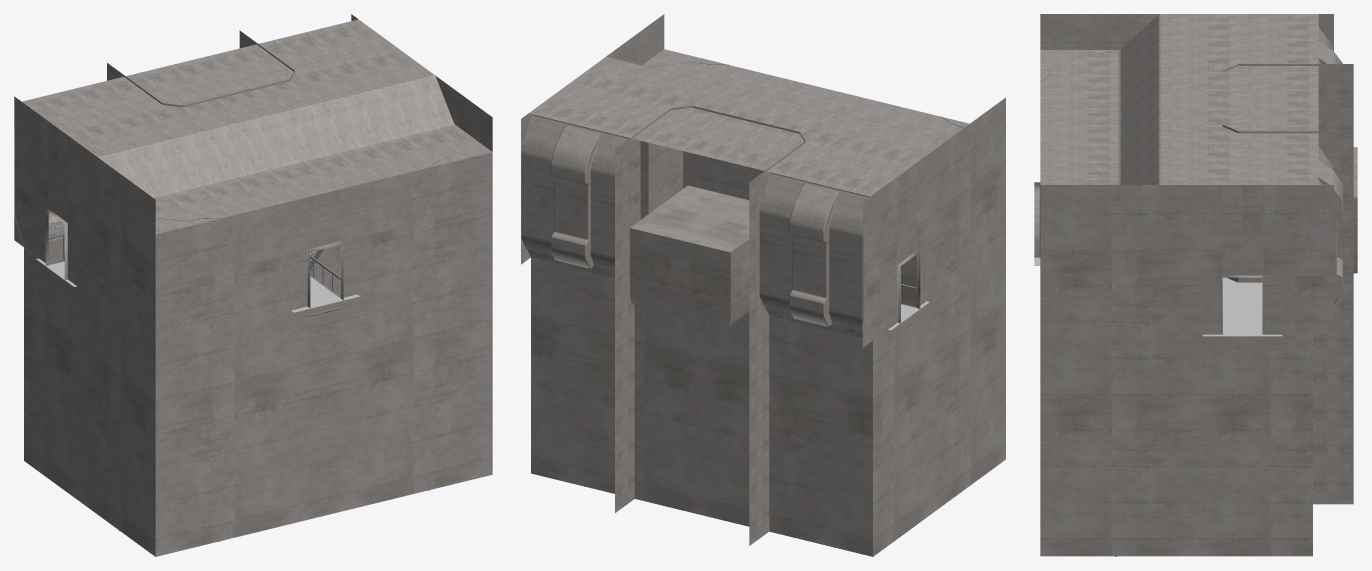
The model's file is HC_room3_pit.gltf.
3 renders of one model, left to right at view 1: azimuth 30°, elevation 25°; view 2: azimuth 150°, elevation 25°; view 3: azimuth 270°, elevation 25°, orthographic. The views are drawn at different scales.
Visible parts, largest first — view 1: TCross_1.002; view 2: TCross_1.002; view 3: TCross_1.002.
Part boxes in pixels (left/top/right/bottom): TCross_1.002: left=14, top=14, right=492, bottom=556; TCross_1.002: left=521, top=14, right=1005, bottom=556; TCross_1.002: left=1034, top=14, right=1357, bottom=556.
Bounding box in the file's own units: 20.72 × 20.74 × 16.27.
